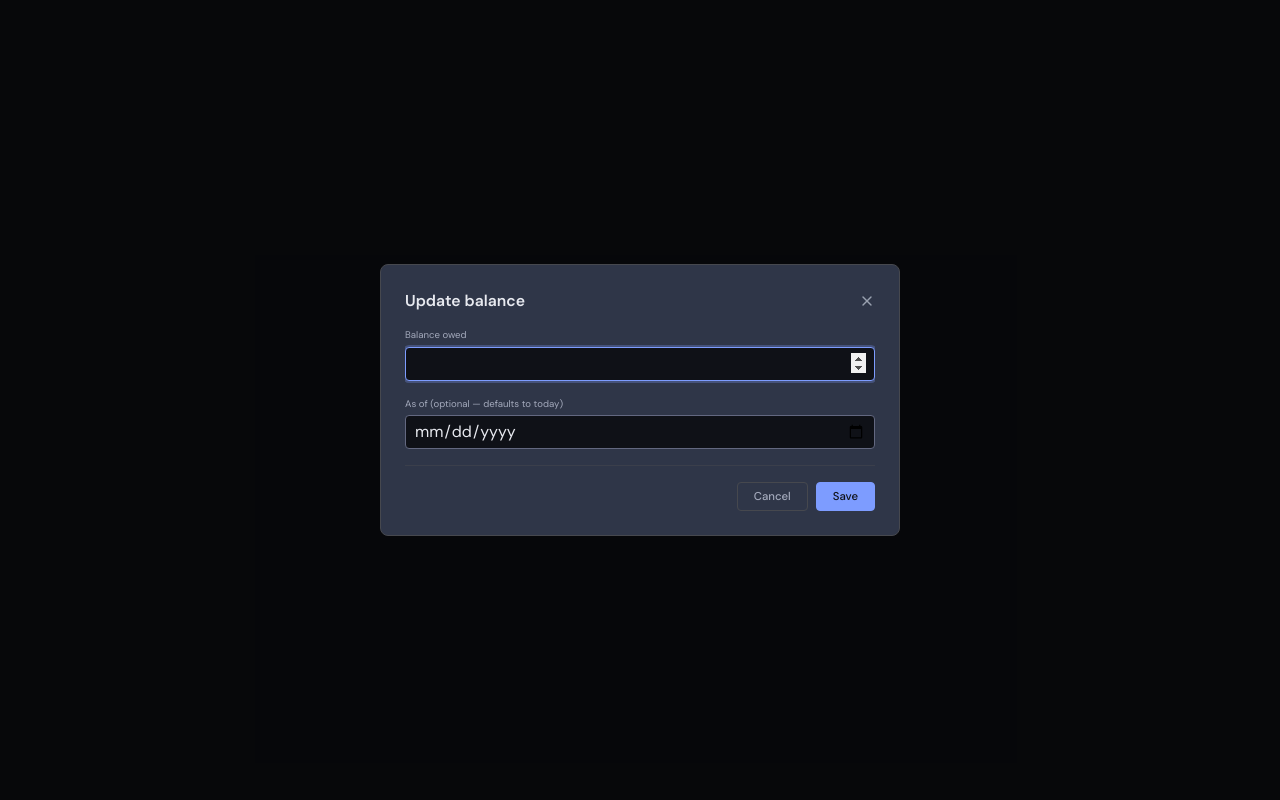
Test: DatedAmountForm › says an empty amount needs filling in, and submits nothing
Click the button "Save" at point(845, 497), box [816,482,875,511]
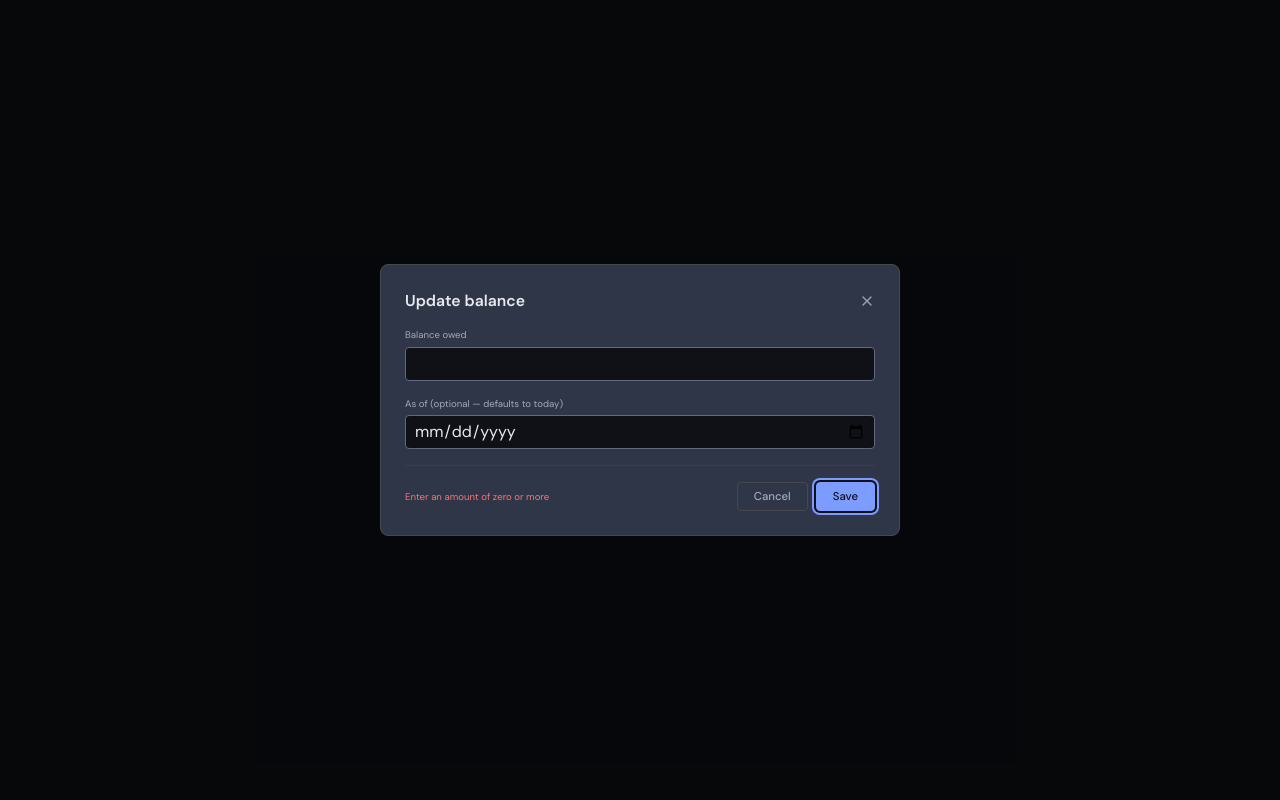
Now the message reads "Enter an amount of zero or more", box [405,490,549,502]
